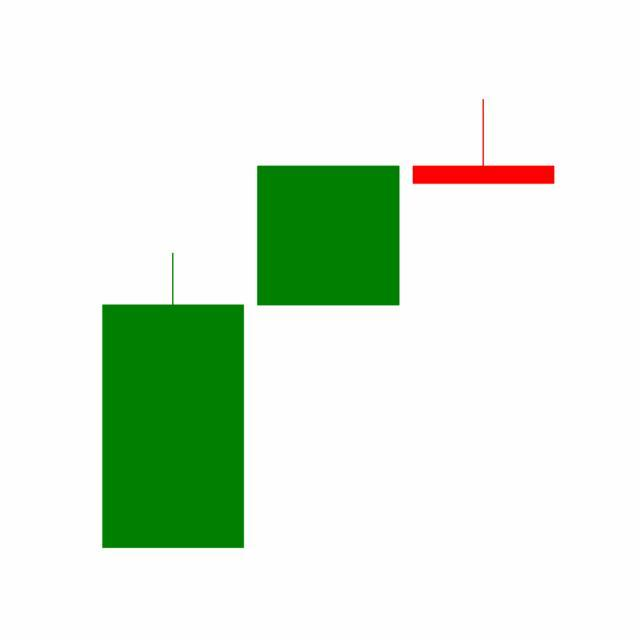Marubozu: (250, 164, 407, 308)
